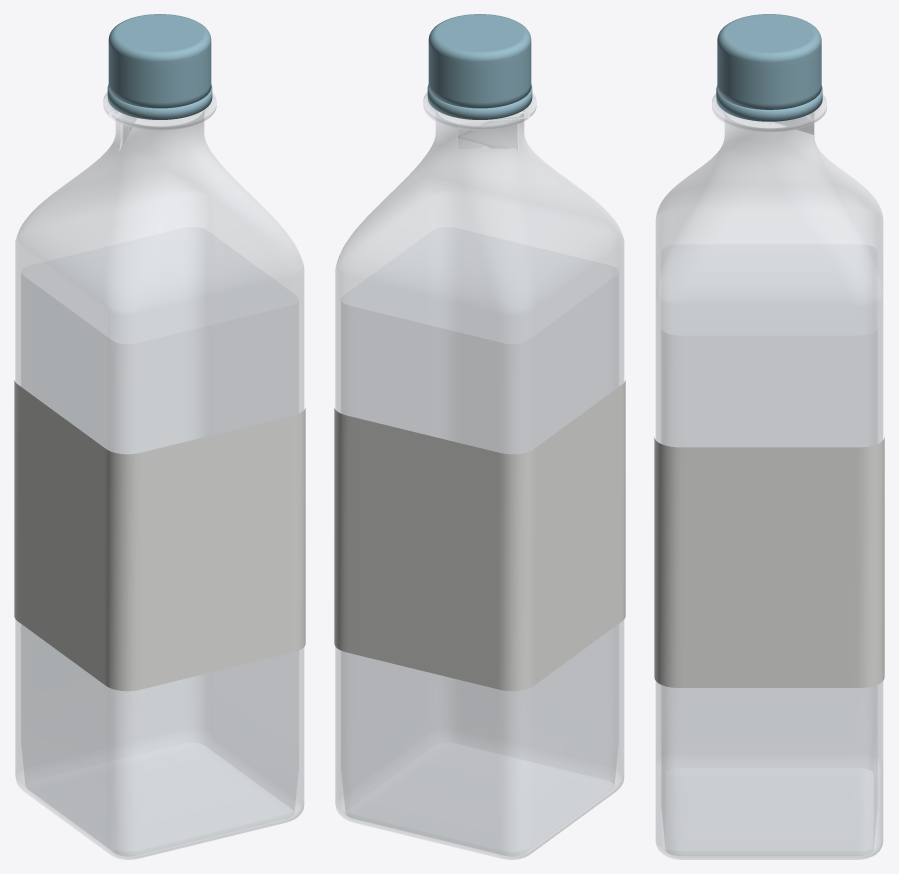
The model's file is nxtsip-bottle.glb.
3 views of the same model, side by side, from view 1: azimuth 30°, elevation 25°; view 2: azimuth 150°, elevation 25°; view 3: azimuth 270°, elevation 25° (orthographic).
Parts seen in each view (by area): view 1: Body, Water, Label, Cap, SealRing; view 2: Body, Water, Label, Cap, SealRing; view 3: Body, Water, Label, Cap, SealRing.
Boxes of the visible parts, bbox=[...] form: Body: bbox=[15, 92, 303, 859]; Water: bbox=[21, 227, 298, 855]; Label: bbox=[14, 380, 305, 691]; Cap: bbox=[108, 14, 211, 108]; SealRing: bbox=[107, 84, 212, 119]; Body: bbox=[335, 92, 623, 859]; Water: bbox=[341, 227, 618, 855]; Label: bbox=[334, 380, 625, 691]; Cap: bbox=[428, 14, 531, 108]; SealRing: bbox=[427, 84, 532, 119]; Body: bbox=[656, 94, 883, 859]; Water: bbox=[661, 244, 877, 855]; Label: bbox=[654, 437, 884, 687]; Cap: bbox=[717, 14, 821, 109]; SealRing: bbox=[716, 86, 822, 121].
Bounding box in the file's own units: 0.0549 × 0.2061 × 0.0549.
